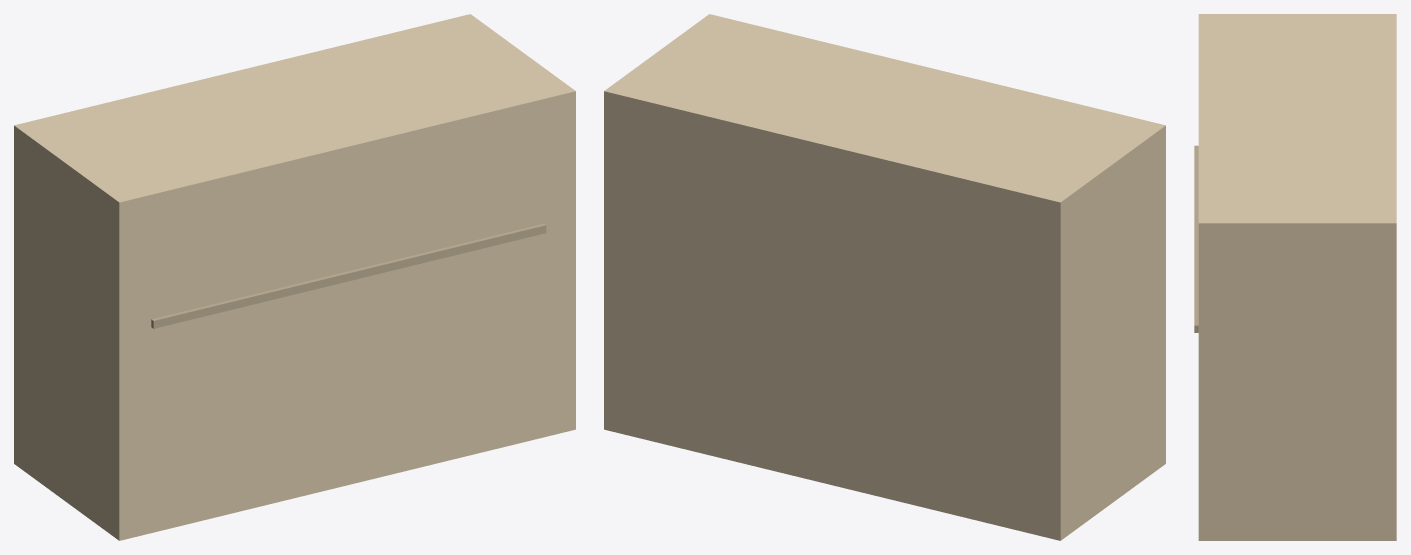
Rendered from comoda.glb.
3 views of the same model, side by side, from view 1: azimuth 30°, elevation 25°; view 2: azimuth 150°, elevation 25°; view 3: azimuth 270°, elevation 25° (orthographic). The views are drawn at different scales.
Size of the model in its own units: 1.2 by 0.85 by 0.49.
